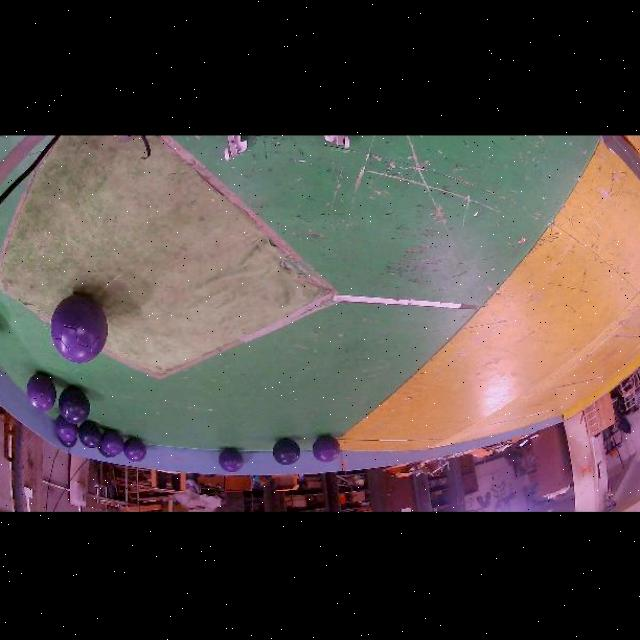B: (59, 387, 90, 425), (272, 440, 301, 466), (77, 421, 102, 449)
P: (51, 295, 107, 364), (26, 374, 56, 412), (313, 436, 340, 463), (219, 449, 243, 474), (123, 438, 147, 463), (101, 431, 124, 457), (55, 416, 77, 442)
